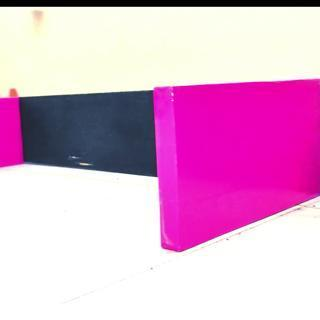xparking: (157, 90, 320, 227), (1, 96, 22, 164)
